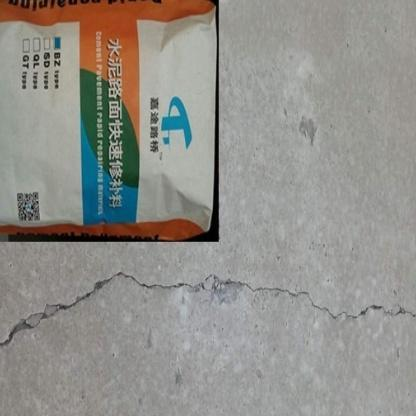Cracks: (0, 269, 416, 360)
